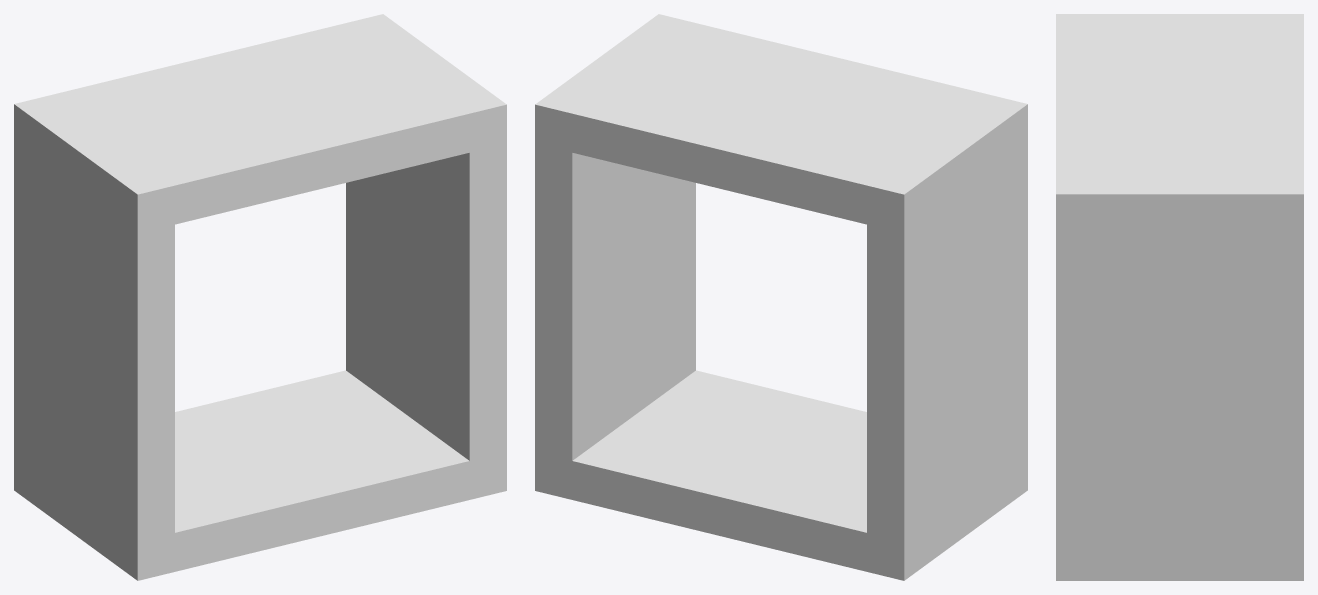
Rendered from Prop_WallShelf_07_.fbx.
The picture shows the model from 3 angles, left to right: view 1: azimuth 30°, elevation 25°; view 2: azimuth 150°, elevation 25°; view 3: azimuth 270°, elevation 25°; orthographic projection.
Parts seen in each view (by area): view 1: Prop_WallShelf_07; view 2: Prop_WallShelf_07; view 3: Prop_WallShelf_07.
Boxes of the visible parts, <box> form: Prop_WallShelf_07: <box>14,14,506,580</box>; Prop_WallShelf_07: <box>535,14,1027,580</box>; Prop_WallShelf_07: <box>1056,14,1303,580</box>.
Bounding box in the file's own units: 18.72 × 18.72 × 10.87.
1 material, 1 textured.
